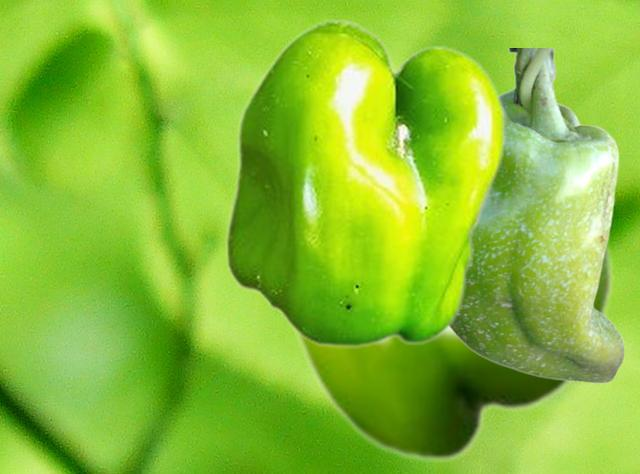bell_pepper: (224, 18, 504, 347), (286, 236, 613, 462), (450, 48, 624, 382)
